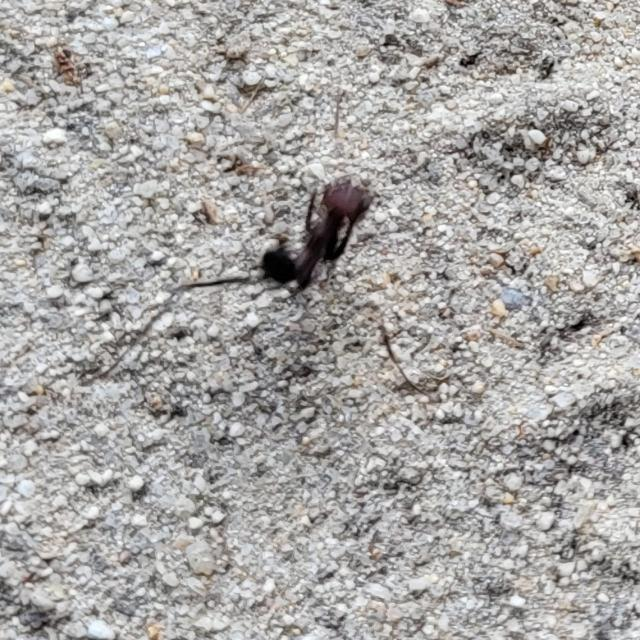Cataglyphis: (228, 156, 392, 320)
